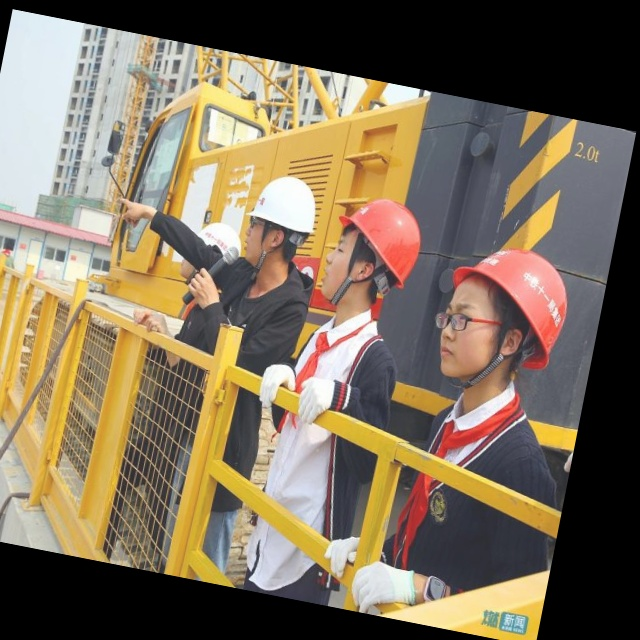Con_Casco: (317, 190, 427, 319), (243, 170, 323, 273)
Sin_Chaleco: (391, 398, 577, 605), (259, 317, 397, 580)
